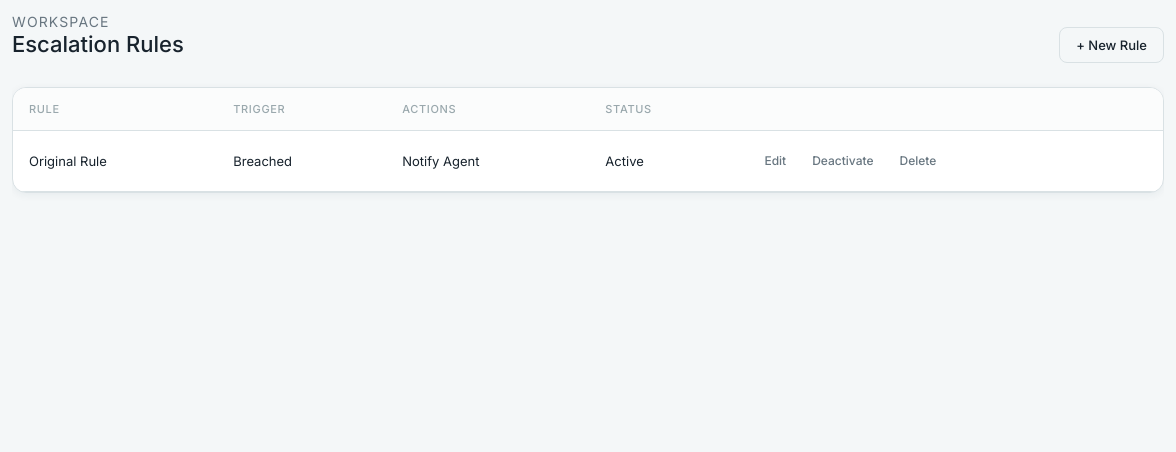
EscalationRulesManagementView › prefills the edit form and submits the update
The width and height of the screenshot is (1176, 452).
Click the button "Edit". click: (775, 161)
box: [751, 145, 799, 177]
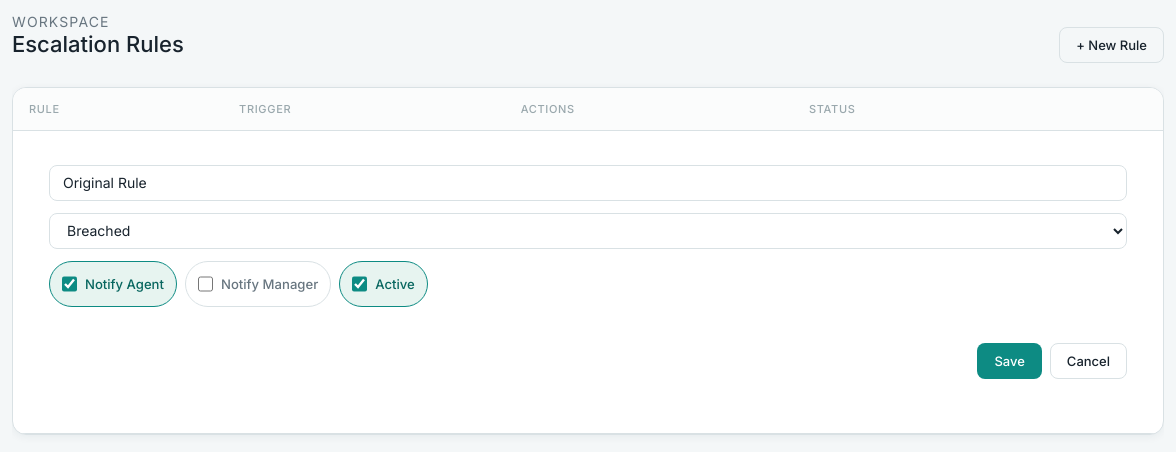
Result: the field holds "Original Rule"
Replace the text in the field with "Updated Rule". click: (588, 183)
box: [49, 165, 1127, 201]
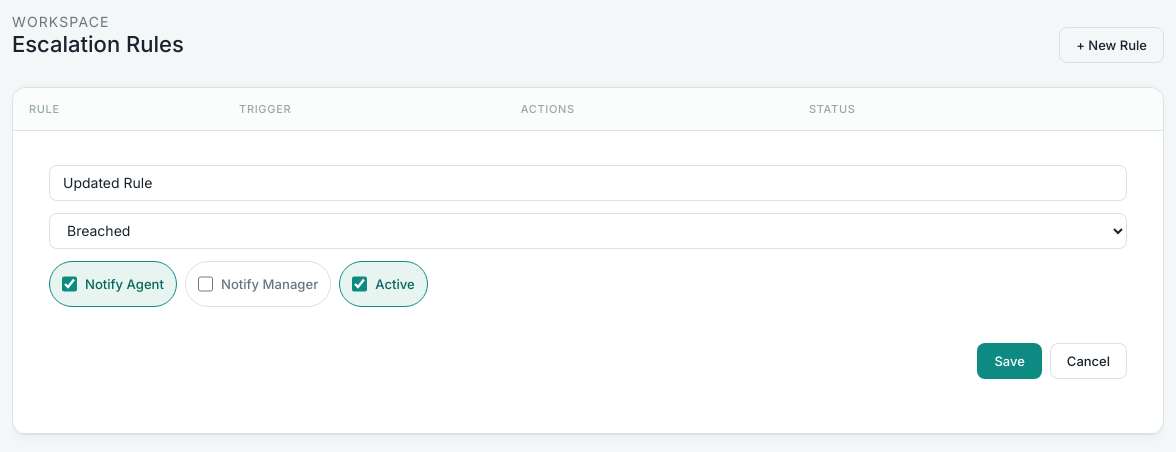
Submit the form with class "escalation-rule-inline-form", box [29, 145, 1147, 399]
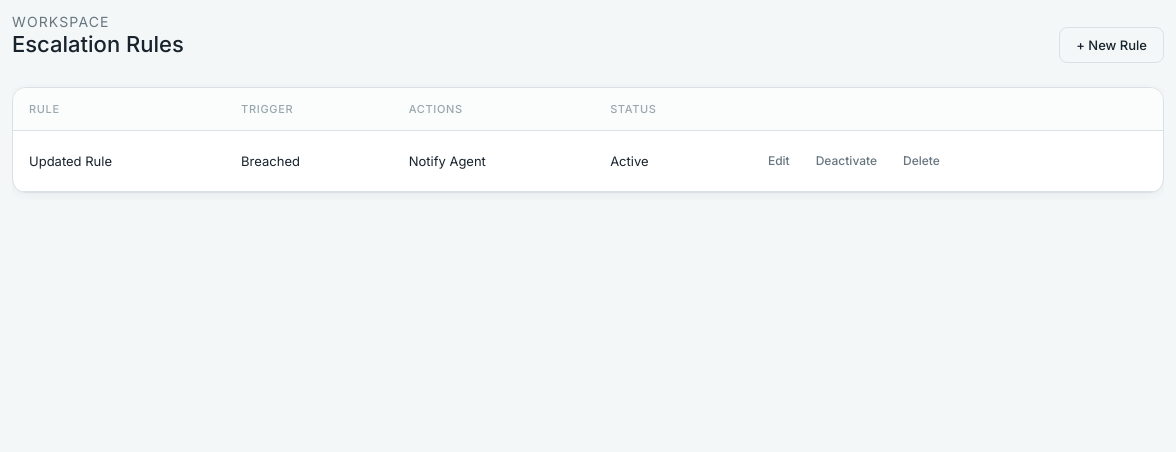
Result: the text "Updated Rule" is shown at [13, 130, 225, 191]
